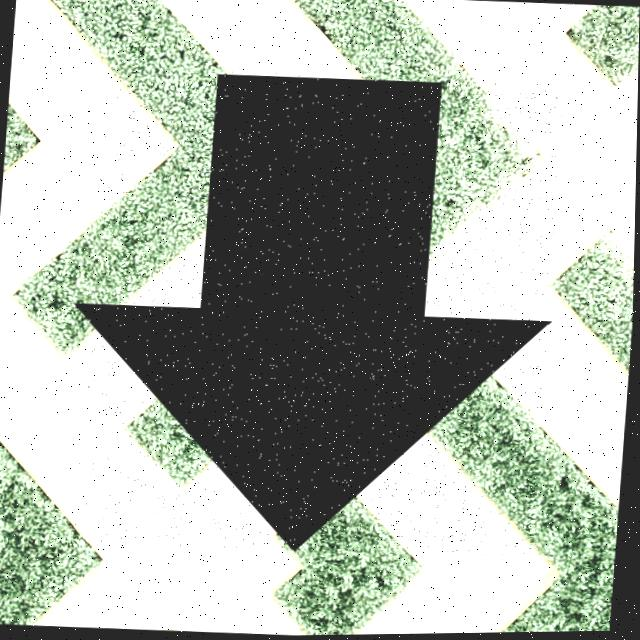DOWN: (92, 76, 550, 551)
